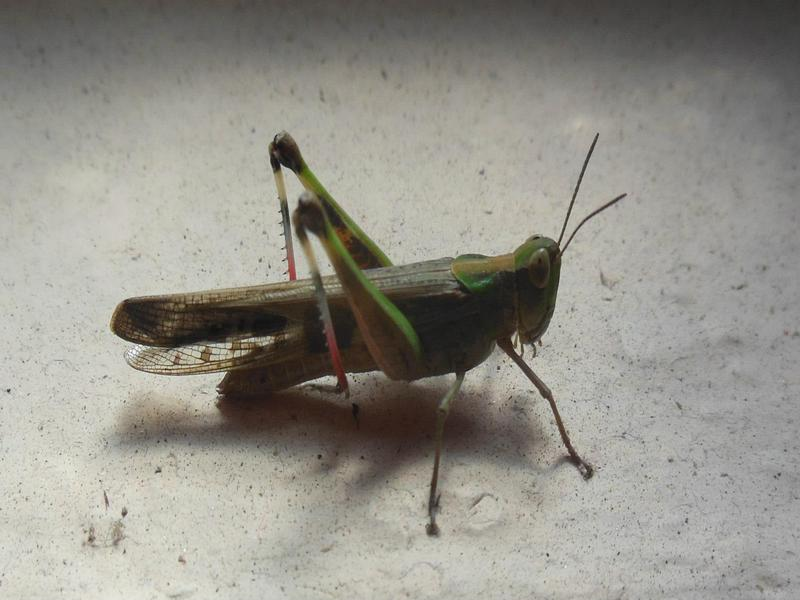Grasshopper: (102, 145, 617, 528)
